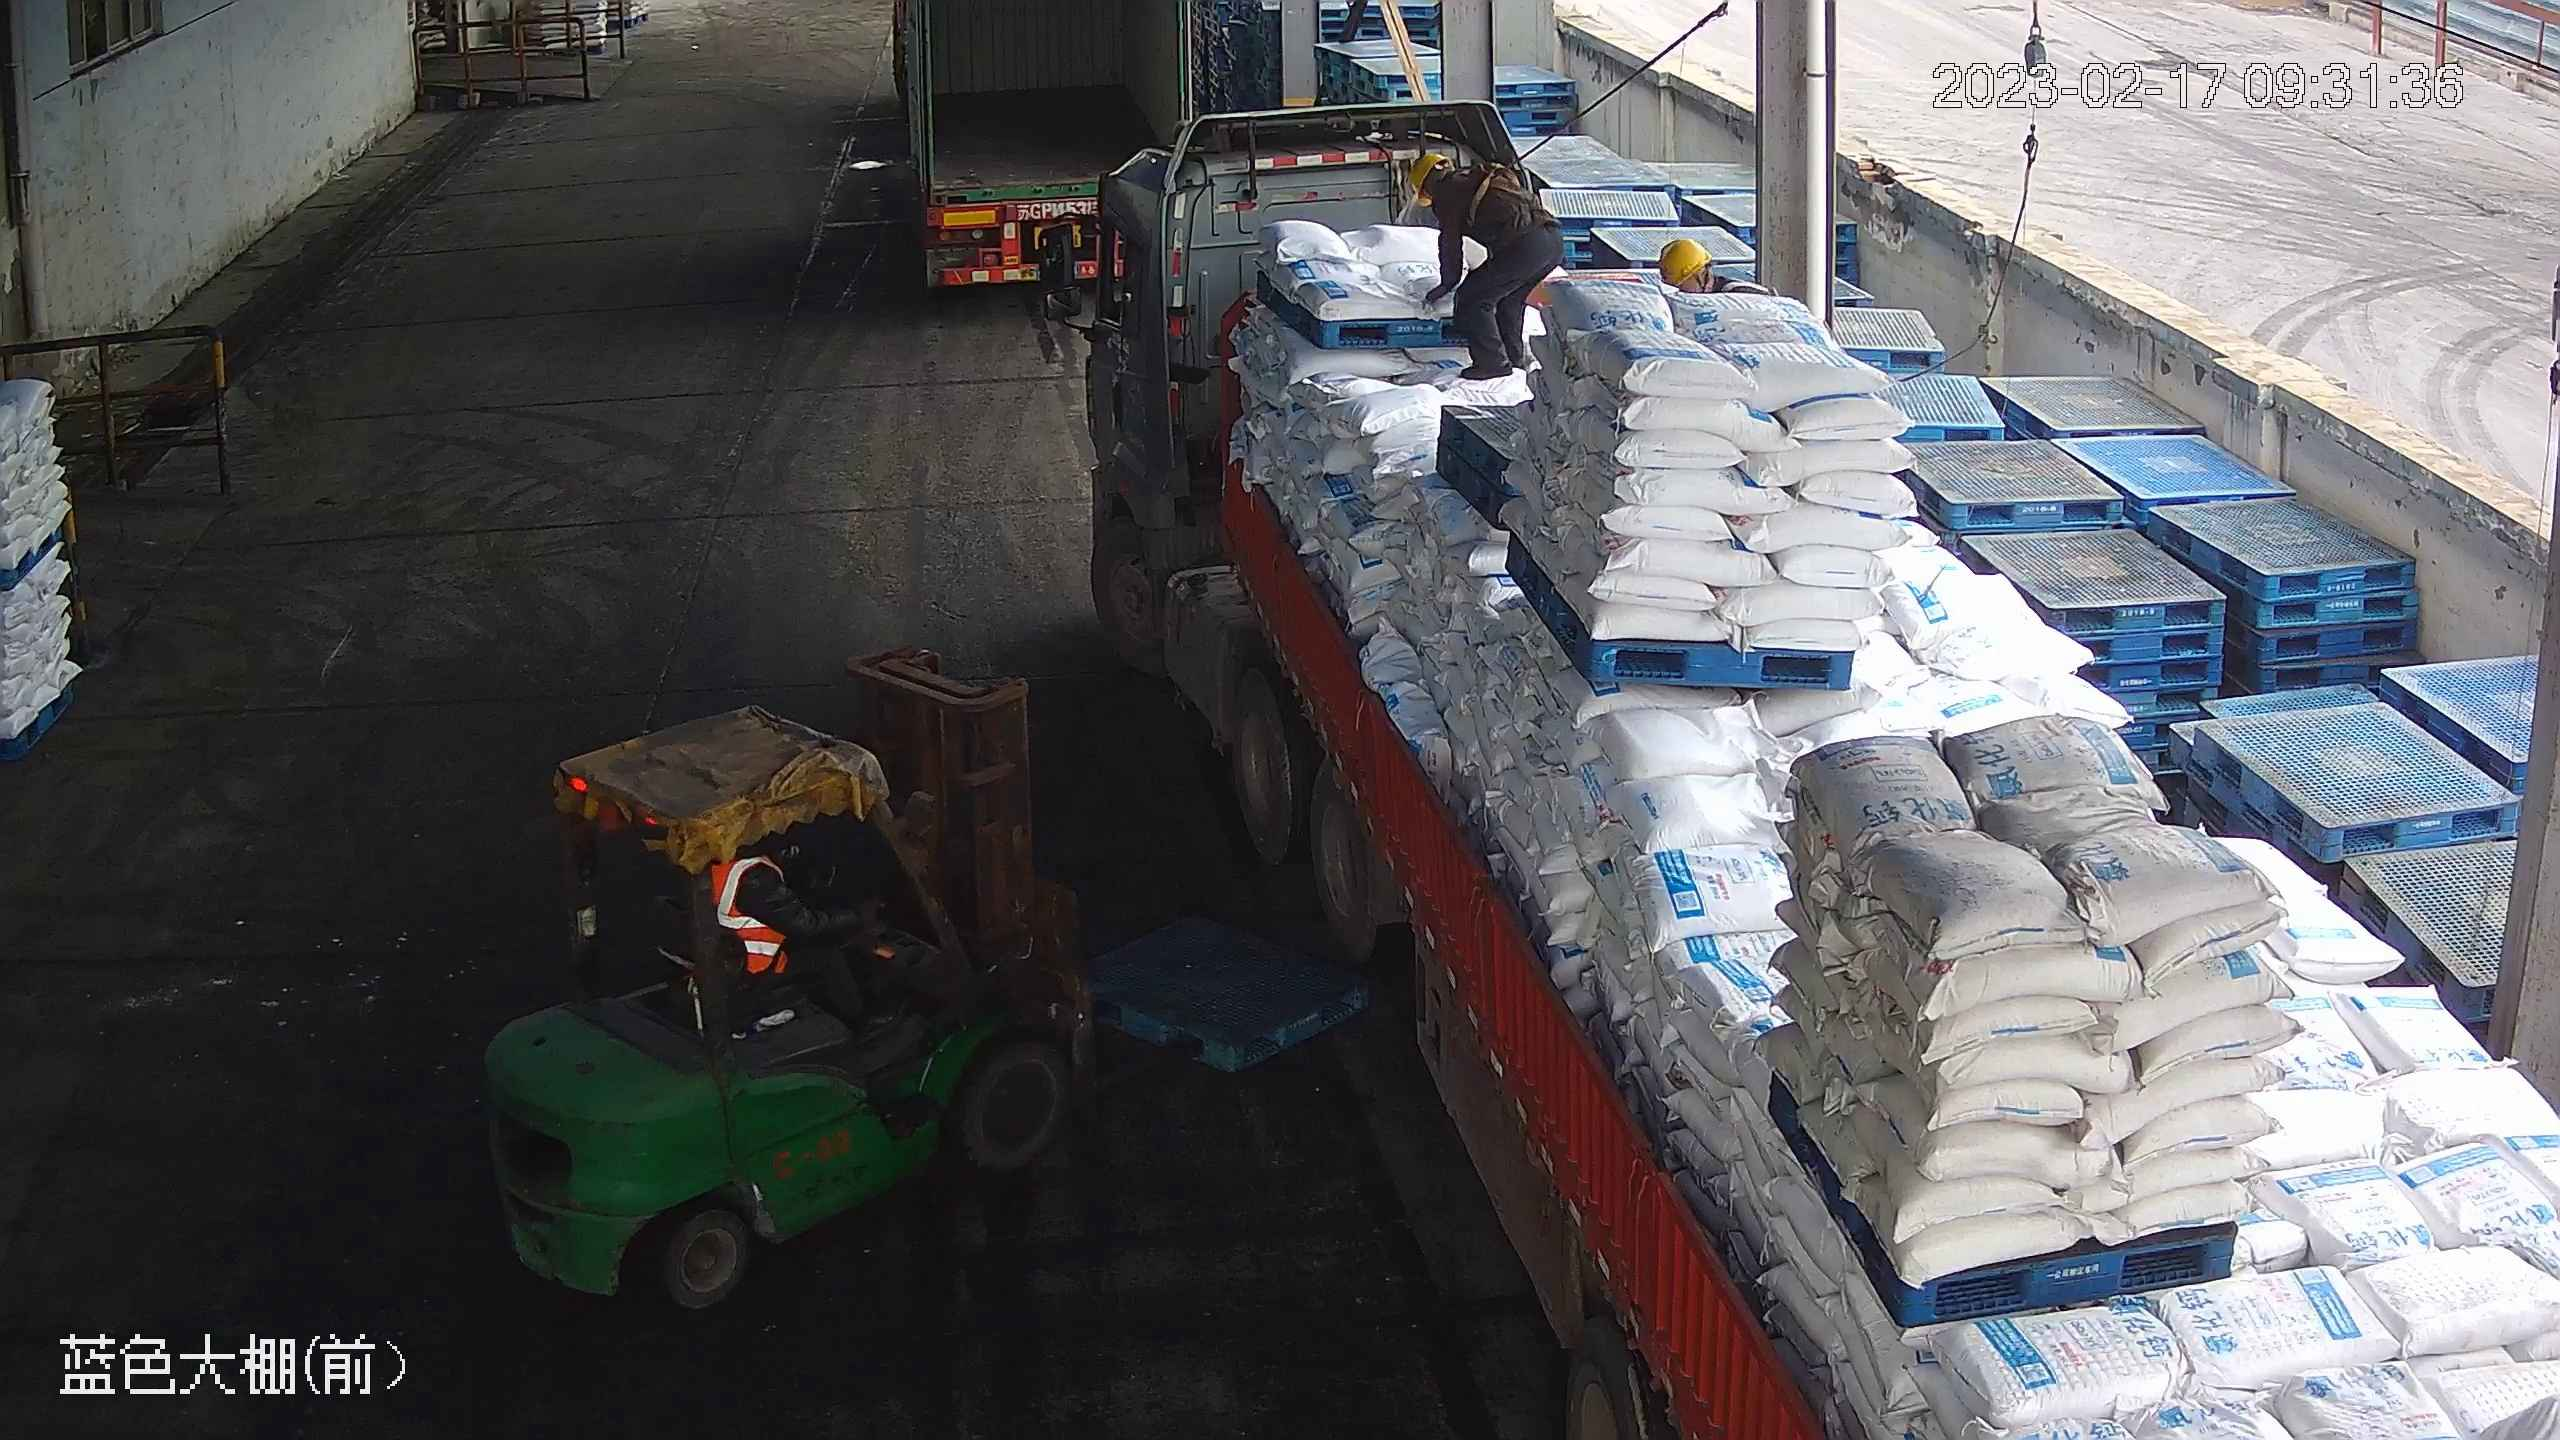belt: (1453, 159, 1529, 228)
head: (1408, 154, 1507, 218)
helmet: (1658, 239, 1714, 287), (1409, 154, 1456, 207)
people: (710, 839, 900, 1036), (1409, 155, 1565, 381)
truck: (1085, 97, 2560, 1440)
